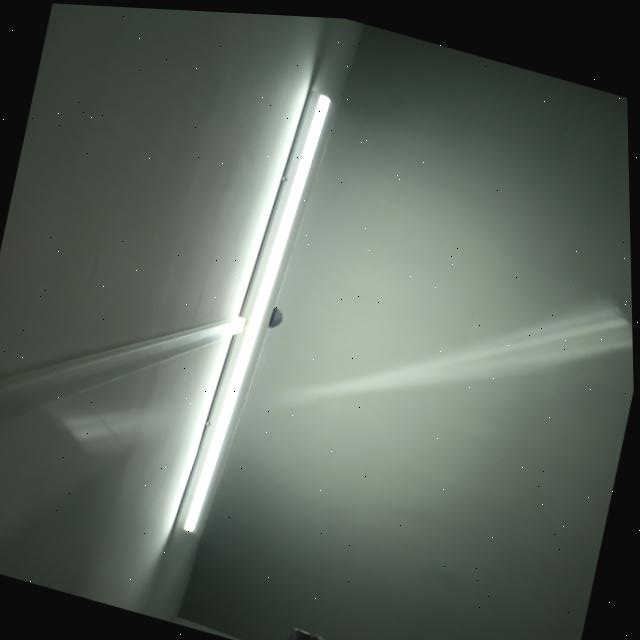fluorescent tube: (157, 66, 358, 561)
